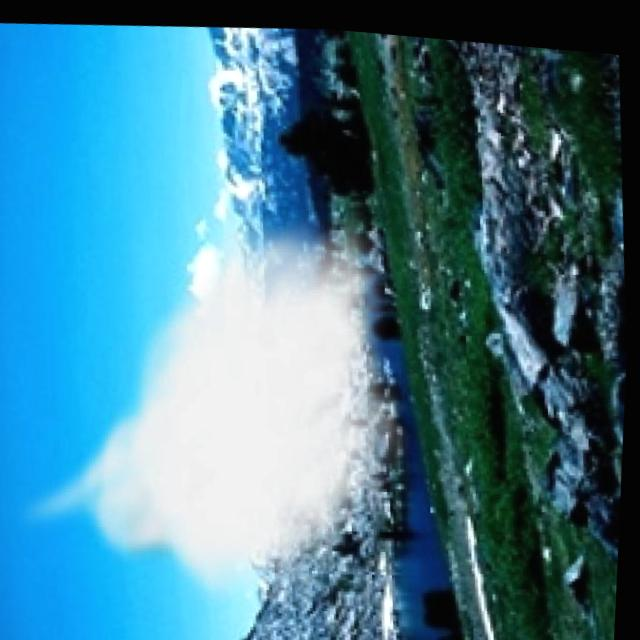Smoke: (6, 188, 421, 606)
